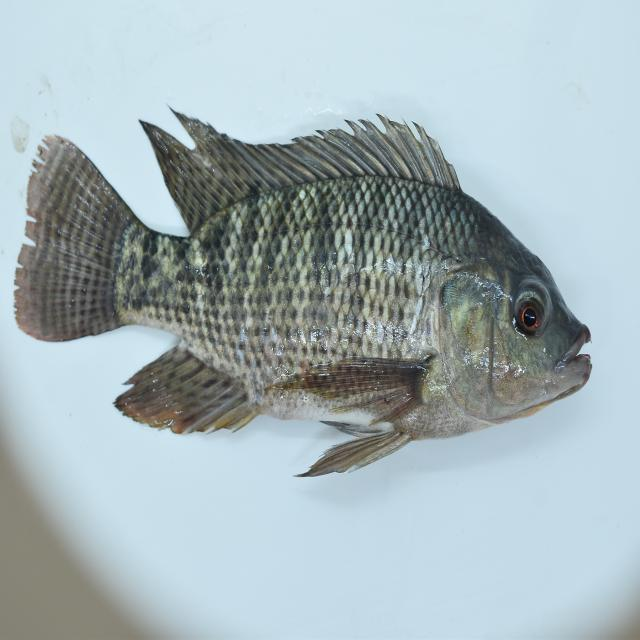Columnaris Disease: (1, 86, 604, 490)
